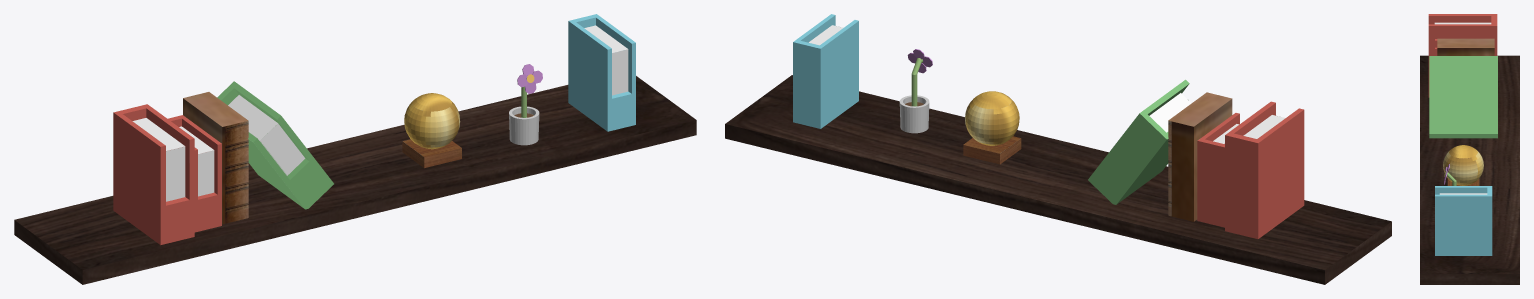
File: półka.glb
3 renders of one model, left to right at view 1: azimuth 30°, elevation 25°; view 2: azimuth 150°, elevation 25°; view 3: azimuth 270°, elevation 25°, orthographic. The views are drawn at different scales.
Parts seen in each view (by area): view 1: Cube.050, biurko.004, biurko.005, biurko.001, Cube.054, Cube.053, biurko.002, Cube.051; view 2: Cube.050, biurko.004, biurko.005, biurko.001, Cube.054, Cube.053, biurko.002, Cube.051; view 3: Cube.050, biurko.001, biurko.005, biurko.004, Cube.053, Cube.054, Cube.051.
Boxes of the visible parts, <box> form: Cube.050: <box>14,76,696,284</box>; biurko.004: <box>113,104,194,245</box>; biurko.005: <box>568,14,635,131</box>; biurko.001: <box>217,81,333,209</box>; Cube.054: <box>183,92,248,224</box>; Cube.053: <box>402,93,461,168</box>; biurko.002: <box>168,115,221,232</box>; Cube.051: <box>509,64,542,145</box>; Cube.050: <box>725,75,1391,284</box>; biurko.004: <box>1225,101,1304,238</box>; biurko.005: <box>793,14,858,128</box>; biurko.001: <box>1088,79,1191,204</box>; Cube.054: <box>1168,92,1232,221</box>; Cube.053: <box>963,91,1021,164</box>; biurko.002: <box>1197,113,1239,227</box>; Cube.051: <box>899,49,932,133</box>; Cube.050: <box>1420,55,1519,284</box>; biurko.001: <box>1429,56,1497,138</box>; biurko.005: <box>1435,186,1492,255</box>; biurko.004: <box>1428,14,1497,97</box>; Cube.053: <box>1443,145,1483,185</box>; Cube.054: <box>1437,38,1494,55</box>; Cube.051: <box>1444,164,1456,185</box>.
Size of the model in its own units: 4.75 by 0.8482 by 0.9175.
Materials: 8 (8 with a texture image).
